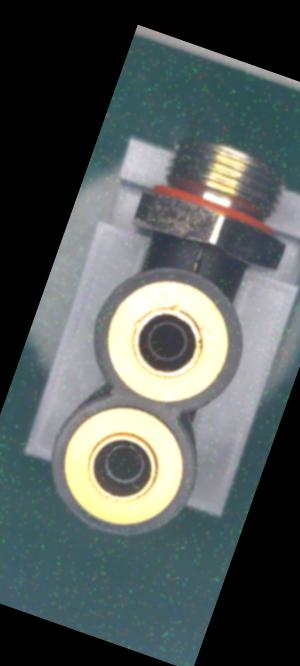craze: (188, 237, 214, 275)
